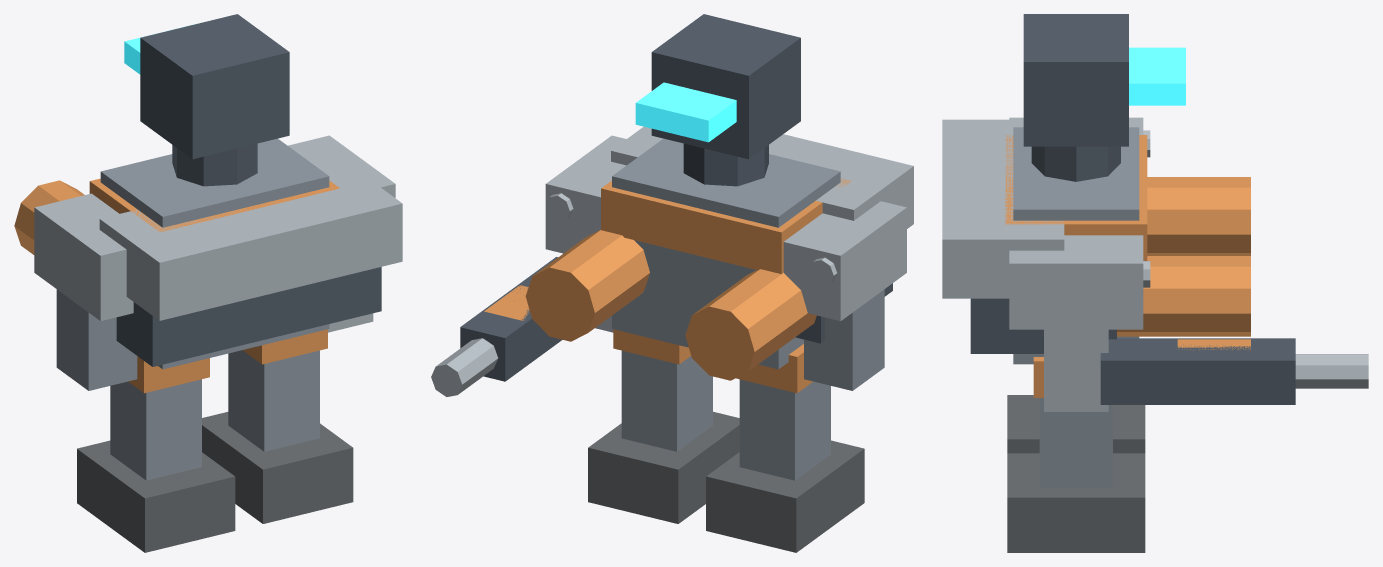
Rendered from marauder.glb.
3 views of the same model, side by side, from view 1: azimuth 30°, elevation 25°; view 2: azimuth 150°, elevation 25°; view 3: azimuth 270°, elevation 25° (orthographic).
Parts seen in each view (by area): view 1: detail_021, detail_011, detail_018, detail_000, detail_006, detail_001, detail_008, detail_003, detail_002, detail_013, detail_010, detail_009 (+5 smaller); view 2: detail_006, detail_011, detail_000, detail_001, detail_008, detail_007, detail_019, detail_020, detail_002, detail_003, detail_021, detail_013 (+10 smaller); view 3: detail_021, detail_011, detail_015, detail_009, detail_001, detail_020, detail_019, detail_006, detail_003, detail_014, detail_000, detail_012 (+5 smaller).
Part boxes in pixels (x1,y1,x2,y2): detail_021: (99,159,402,320); detail_011: (140,14,289,159); detail_018: (116,267,381,366); detail_000: (77,440,235,552); detail_006: (100,138,329,369); detail_001: (202,412,353,523); detail_008: (34,193,133,321); detail_003: (228,350,319,451); detail_002: (110,379,201,480); detail_013: (56,289,137,390); detail_010: (172,143,257,186); detail_009: (288,135,395,197); detail_006: (612,138,840,369); detail_011: (651,14,800,159); detail_000: (706,440,864,552); detail_001: (588,411,739,523); detail_008: (783,201,906,321); detail_007: (601,179,851,273); detail_019: (685,269,816,380); detail_020: (525,229,649,341); detail_002: (739,379,830,480); detail_003: (621,350,712,451); detail_021: (611,126,913,228); detail_013: (804,289,884,390); detail_021: (942,119,1064,298); detail_011: (1023,14,1128,146); detail_015: (1100,338,1295,404); detail_009: (1009,235,1143,329); detail_001: (1007,453,1145,552); detail_020: (1117,256,1250,336); detail_019: (1147,177,1250,255); detail_006: (1013,127,1139,364); detail_003: (1039,398,1112,487); detail_014: (1044,329,1108,411); detail_000: (1007,395,1145,453); detail_012: (1129,47,1185,105).
Bounding box in the file's own units: 0.88 × 1.26 × 1.05.
